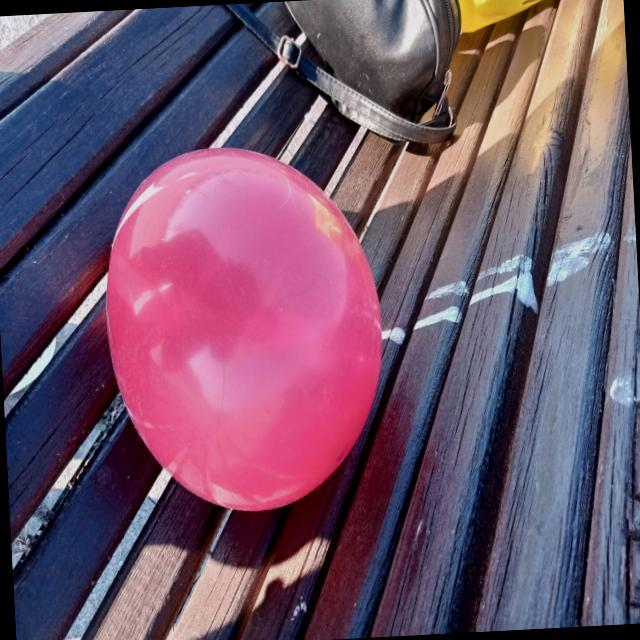balloon: (106, 148, 382, 510)
